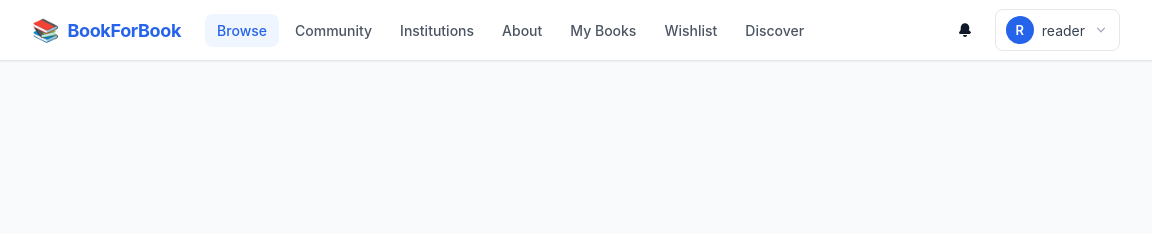
Test: Navbar › shows "Marking..." while markAllRead is pending
The image size is (1152, 234).
Click the button named "notifications". click: click(965, 30)
box: left=948, top=12, right=983, bottom=48
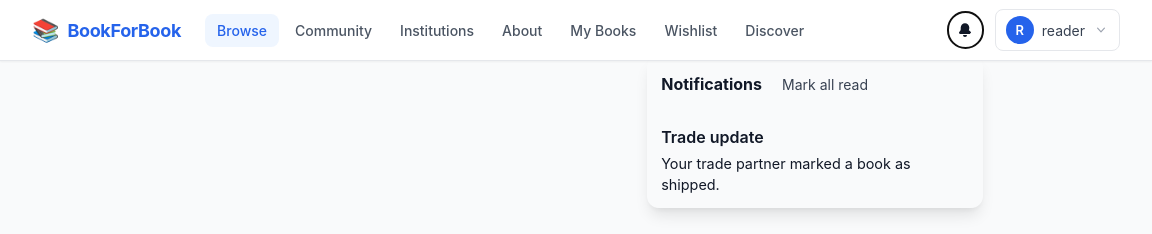
Click the button "Mark all read". click: click(869, 84)
box: left=770, top=68, right=968, bottom=101
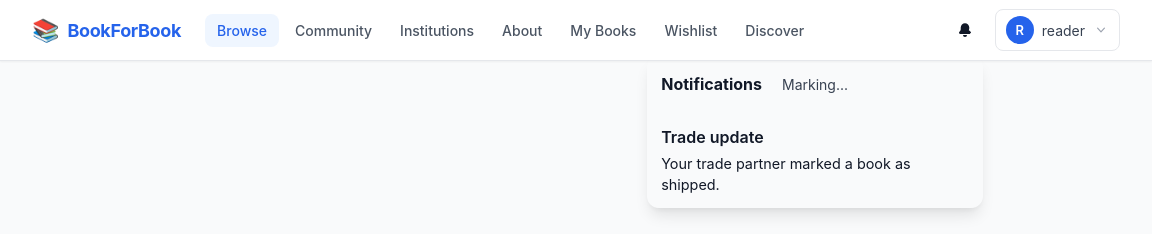
Check: the button "Marking..." is shown, box left=770, top=68, right=968, bottom=101
